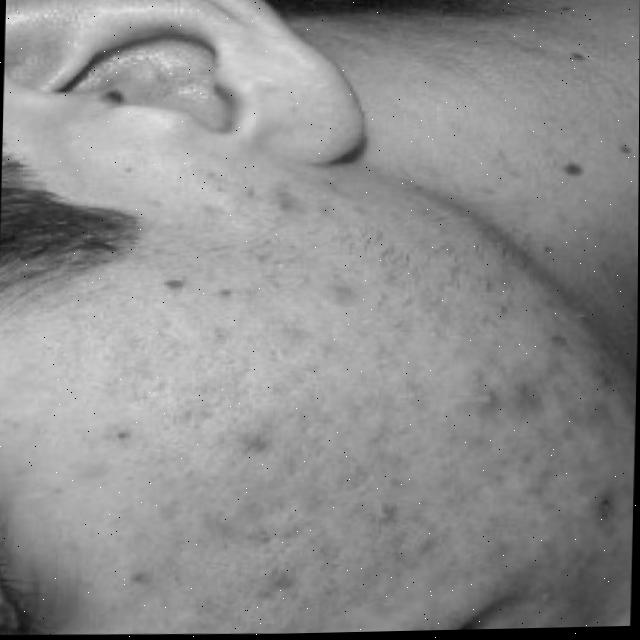Acne: (166, 213, 572, 557)
